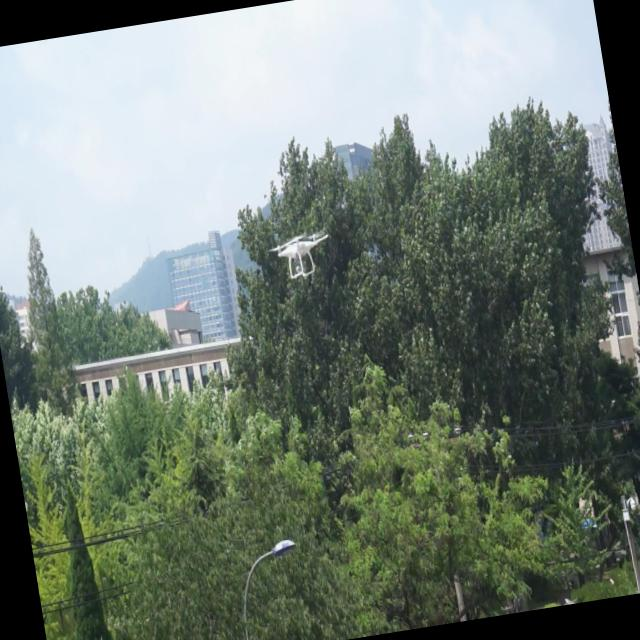drone: (266, 228, 338, 286)
